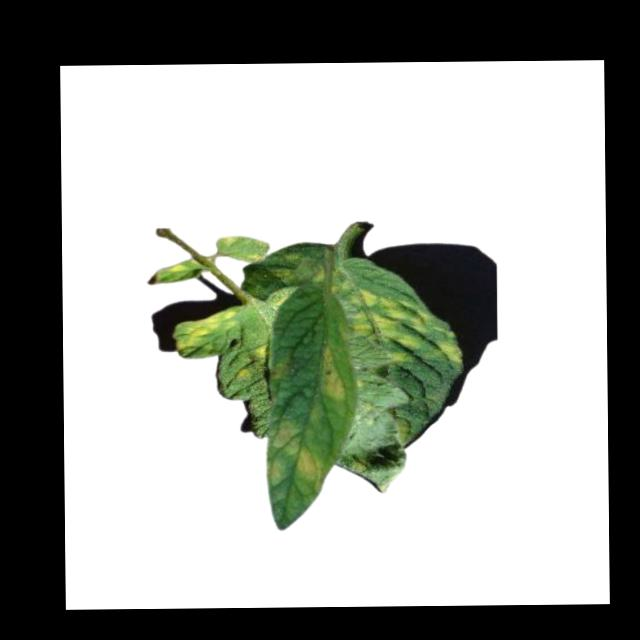Leaf_Mold: (333, 270, 466, 369), (174, 310, 236, 357), (239, 343, 269, 383), (321, 351, 344, 403), (297, 441, 323, 486), (274, 422, 297, 446)
